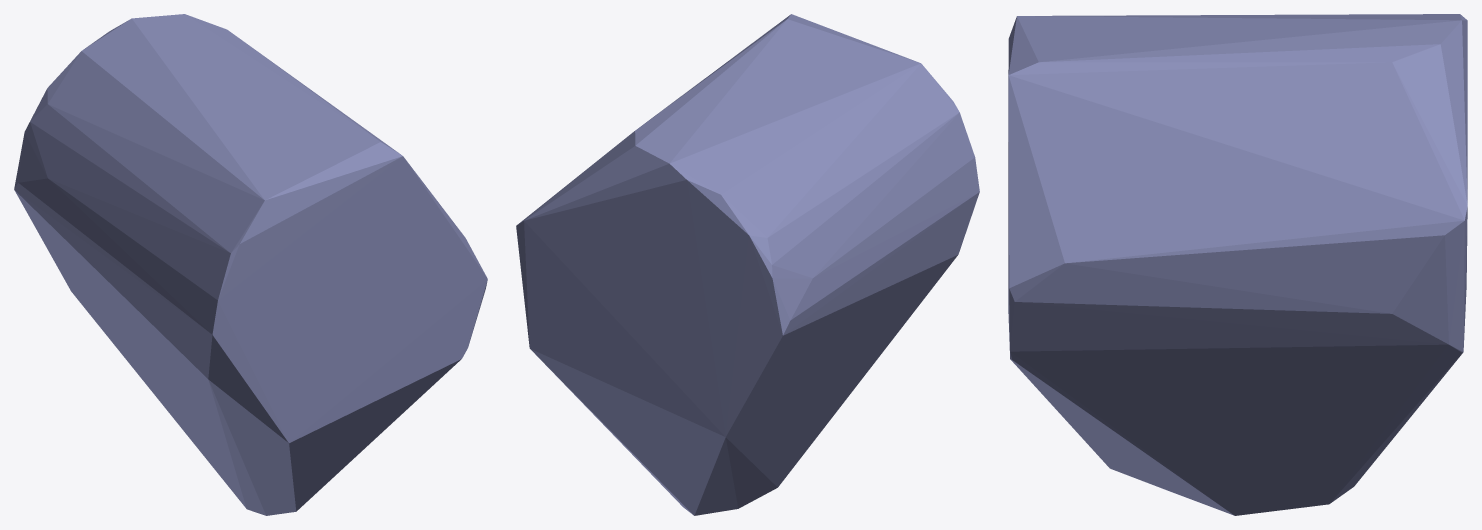
File: kitchenware_mug_n01.glb
3 views of the same model, side by side, from view 1: azimuth 30°, elevation 25°; view 2: azimuth 150°, elevation 25°; view 3: azimuth 270°, elevation 25° (orthographic). The views are drawn at different scales.
Parts seen in each view (by area): view 1: geometry_0; view 2: geometry_0; view 3: geometry_0.
Boxes of the visible parts, bbox=[...] form: geometry_0: bbox=[14, 14, 487, 515]; geometry_0: bbox=[516, 14, 979, 515]; geometry_0: bbox=[1008, 14, 1467, 515].
Bounding box in the file's own units: 0.3355 × 0.4776 × 0.4159.
